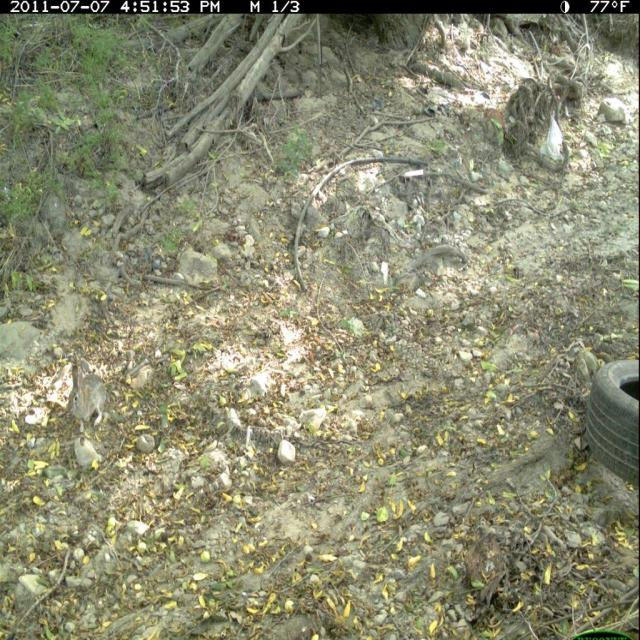rabbit: (67, 363, 110, 434)
